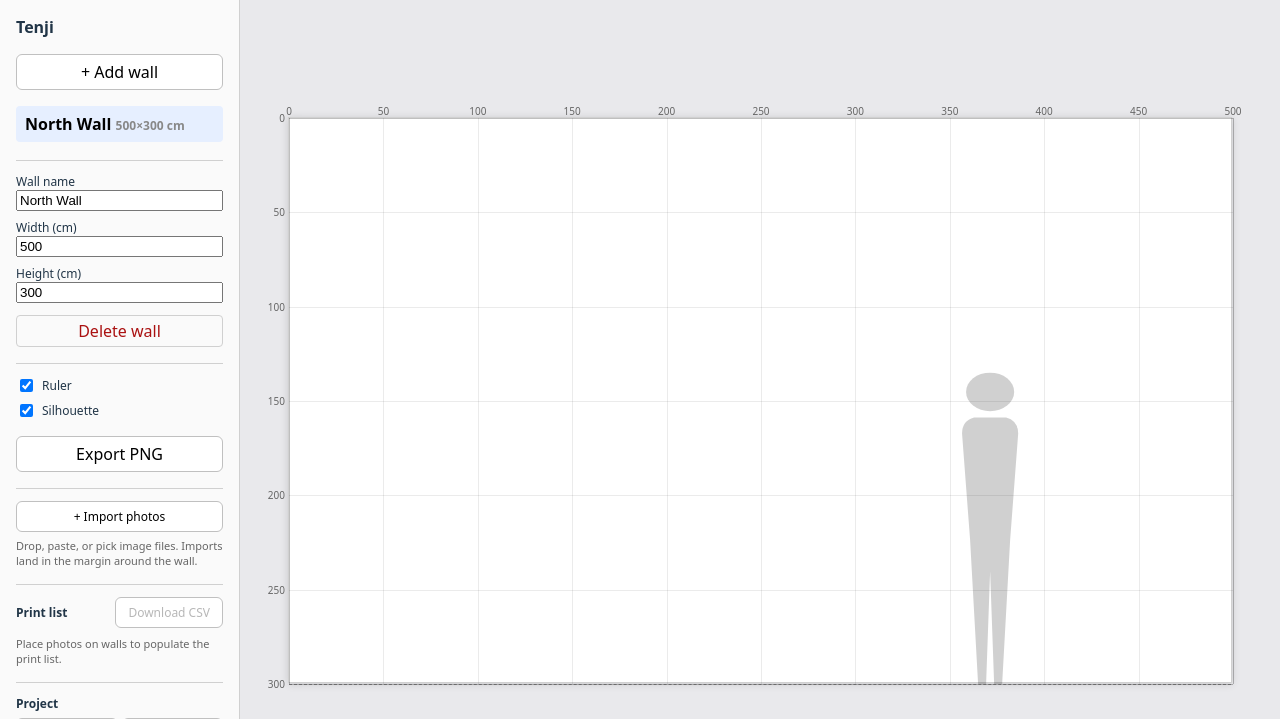
Test case: App › adds a new wall when the user asks for one
This screenshot has width=1280, height=719.
Expected: the button "North Wall 500×300 cm" is shown, [16,106,223,142]
Click the button "+ Add wall": (120,72) [16,54,223,90]
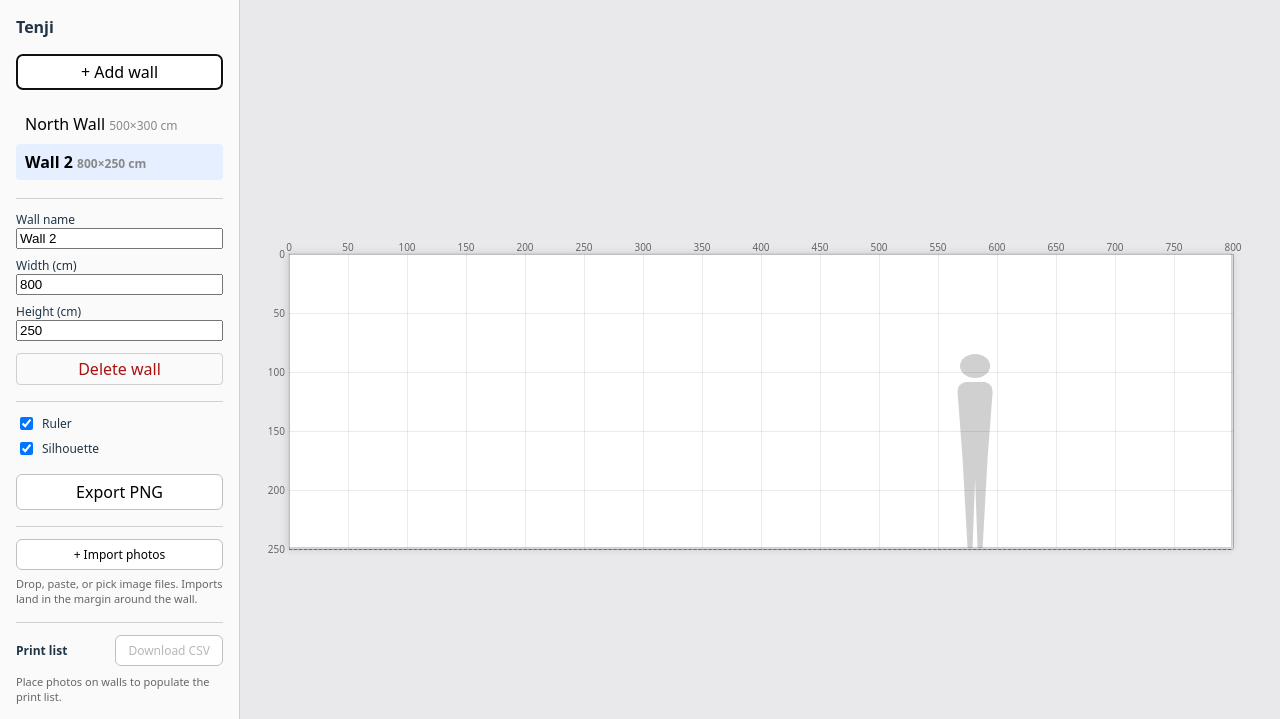
Now the button "Wall 2 800×250 cm" is shown, box [16,144,223,180]
